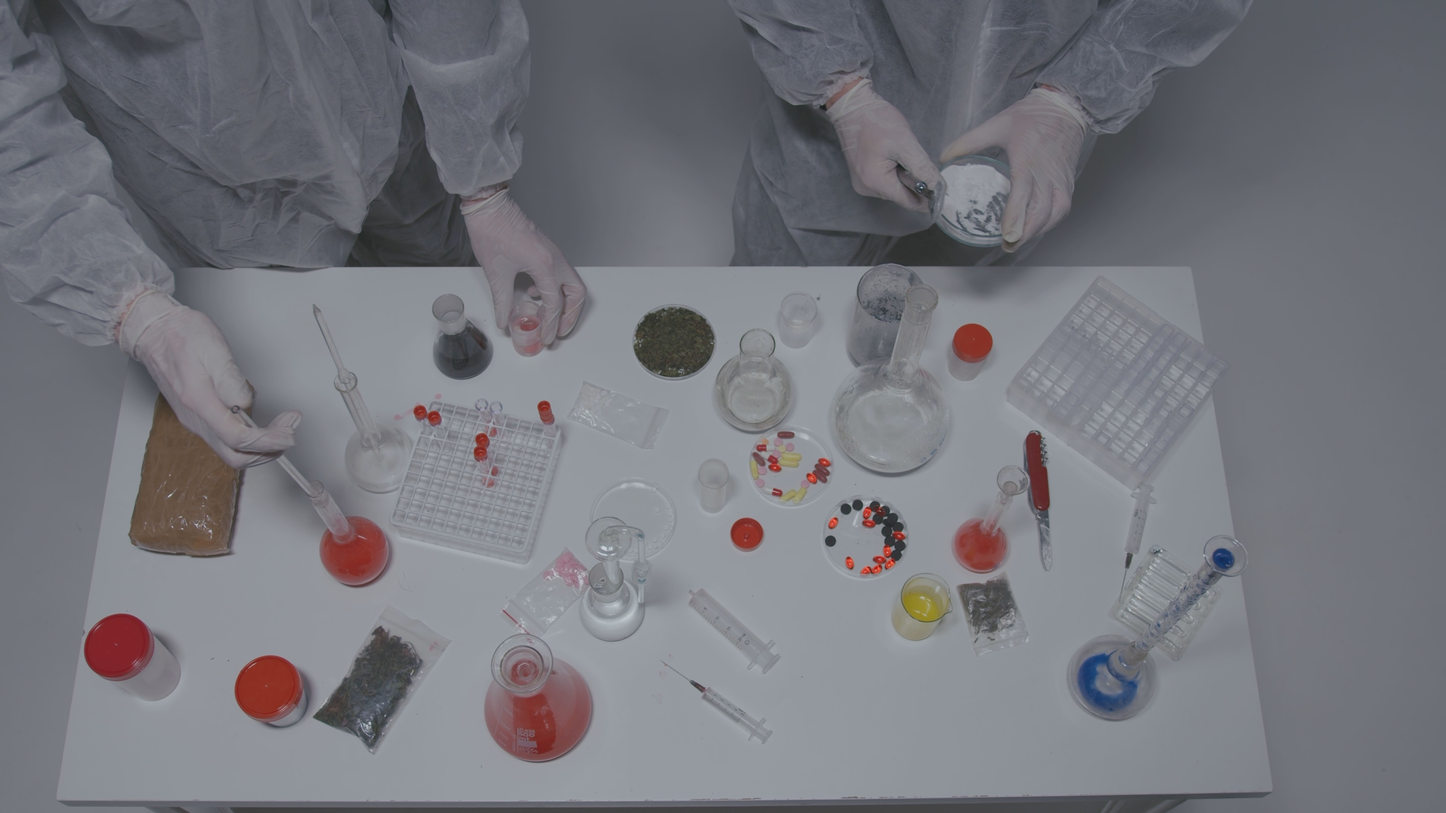gloves: (99, 272, 320, 476), (940, 78, 1093, 270), (432, 193, 601, 352), (803, 93, 943, 227)
